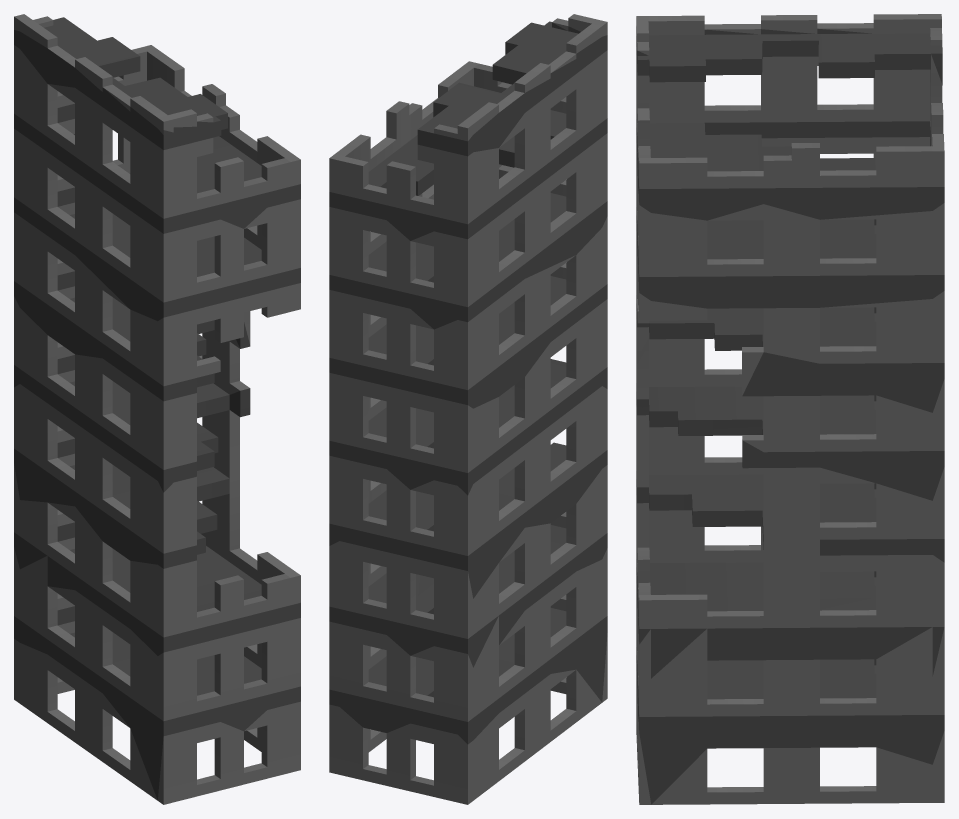
Rendered from ruin_skyscraper.glb.
The picture shows the model from 3 angles, left to right: view 1: azimuth 30°, elevation 25°; view 2: azimuth 150°, elevation 25°; view 3: azimuth 270°, elevation 25°; orthographic projection. The views are drawn at different scales.
Parts seen in each view (by area): view 1: ruin_building_8_3_atlass_1_0; view 2: ruin_building_8_3_atlass_1_0; view 3: ruin_building_8_3_atlass_1_0.
Boxes of the visible parts, left/top/right/bottom form: ruin_building_8_3_atlass_1_0: left=14, top=14, right=300, bottom=804; ruin_building_8_3_atlass_1_0: left=329, top=14, right=607, bottom=804; ruin_building_8_3_atlass_1_0: left=636, top=14, right=944, bottom=804.
Bounding box in the file's own units: 14.53 × 66.42 × 25.84.
Materials: 1 (1 with a texture image).
